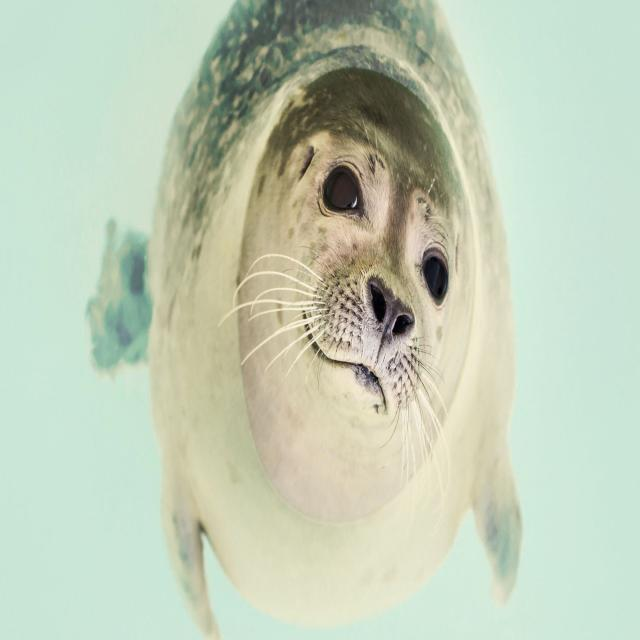WaterDog: (155, 0, 521, 632)
